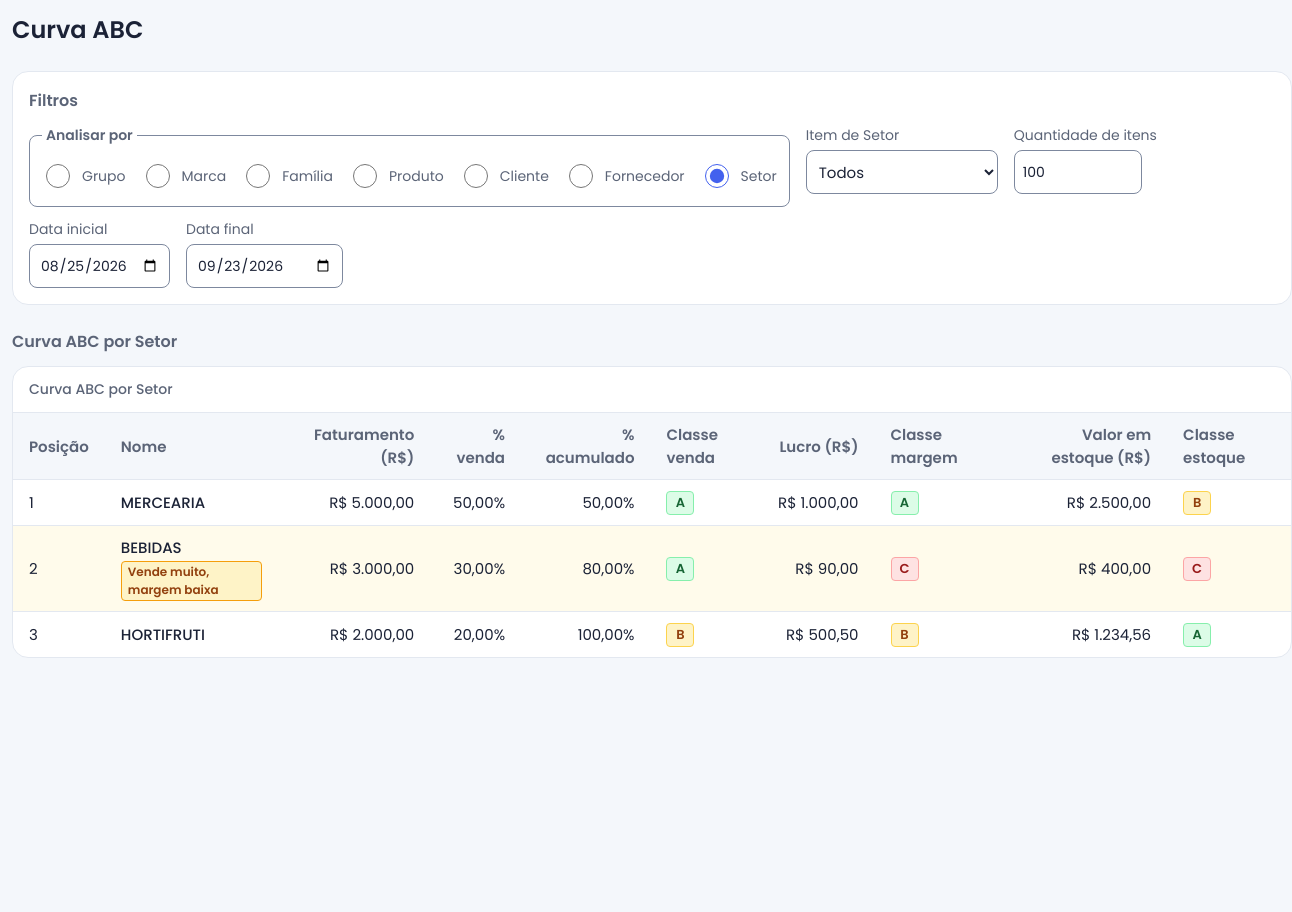
Test: CurvaAbcPage › para fornecedor mostra a curva de compras (sem venda, margem e estoque) e o seletor de item fica desabilitado em "Todos"
Expected: the table is shown, [13,367,1291,657]
Click the radio button labelled "Fornecedor" at [581, 176], box [569,164,593,188]
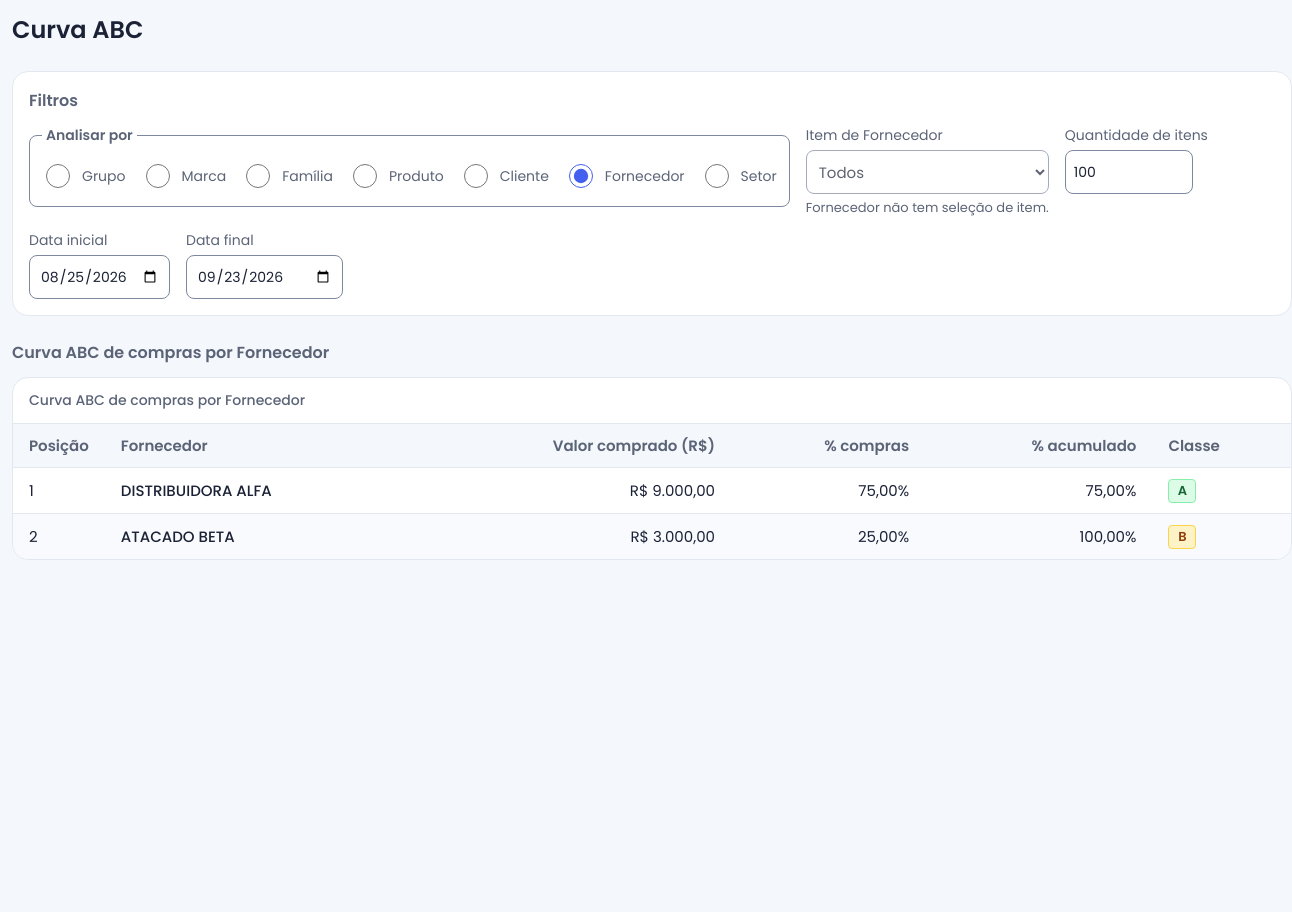
Expected: the column headings read "Posição", "Fornecedor", "Valor comprado (R$)", "% compras", "% acumulado", "Classe", in this order, [13,424,105,468]; [105,424,408,468]; [408,424,731,468]; [731,424,925,468]; [925,424,1152,468]; [1152,424,1291,468]
Expected: the dropdown labelled "Item de Fornecedor" is disabled, [806,150,1049,194]
Expected: the dropdown labelled "Item de Fornecedor" shows "Todos", [806,150,1049,194]
